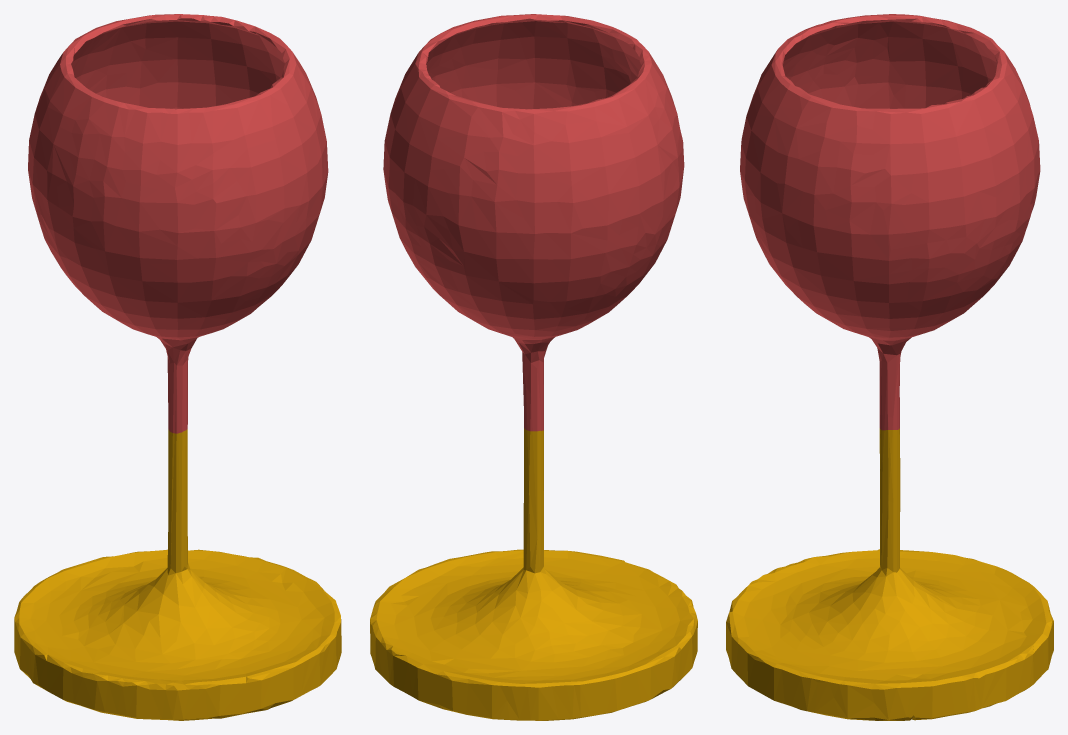
Rendered from fractured_47_2pcs.glb.
3 renders of one model, left to right at view 1: azimuth 30°, elevation 25°; view 2: azimuth 150°, elevation 25°; view 3: azimuth 270°, elevation 25°, orthographic.
Visible parts, largest first — view 1: piece_1.obj, piece_0.obj; view 2: piece_1.obj, piece_0.obj; view 3: piece_1.obj, piece_0.obj.
Boxes of the visible parts, box(x1,y1,x2,y2) form: piece_1.obj: box(28, 14, 328, 433); piece_0.obj: box(14, 429, 341, 720); piece_1.obj: box(383, 14, 684, 431); piece_0.obj: box(370, 428, 697, 720); piece_1.obj: box(740, 14, 1040, 430); piece_0.obj: box(726, 428, 1053, 720).
Size of the model in its own units: 0.5017 by 1 by 0.5019.
